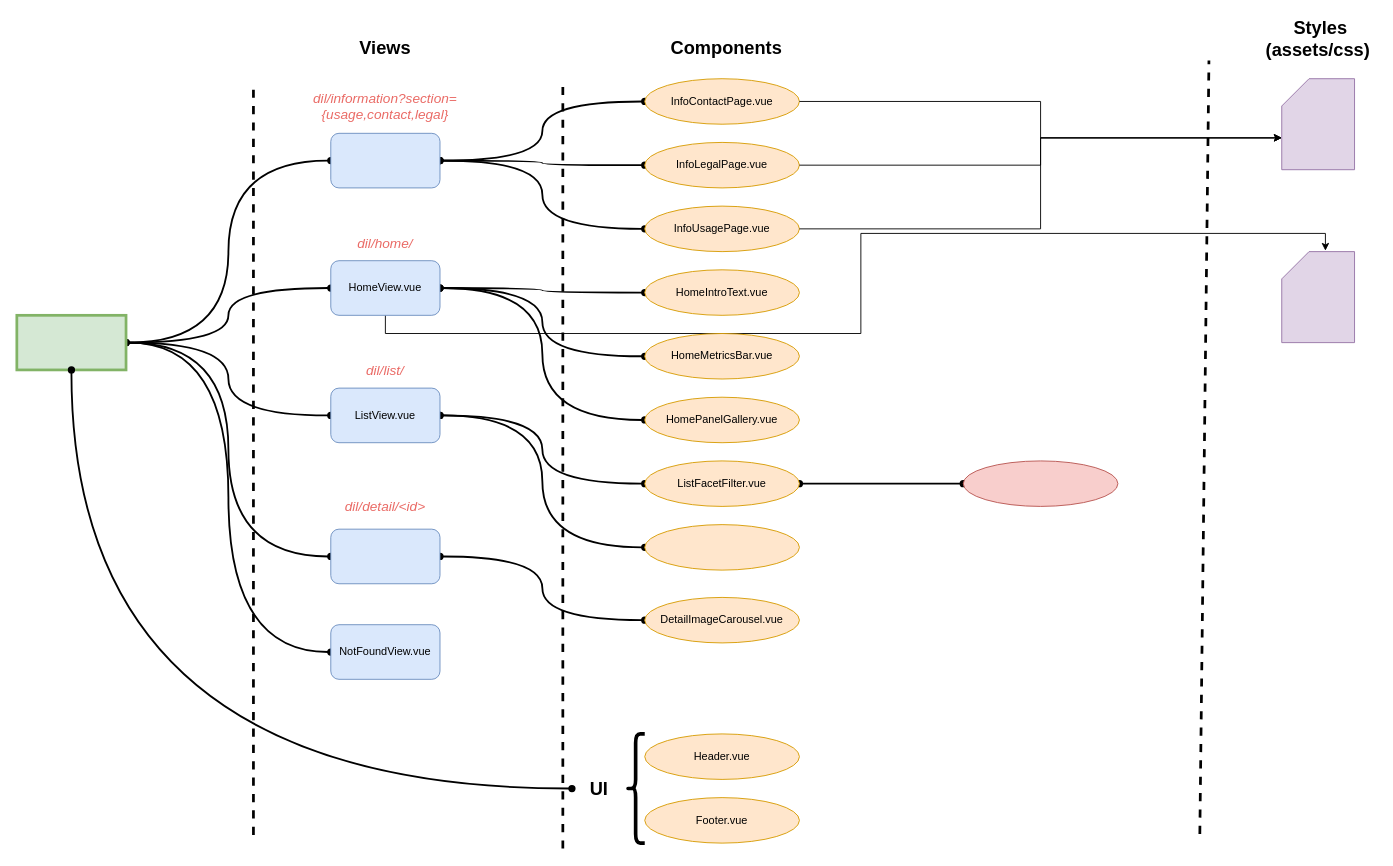
Image size: 1393x866. Some labels were removed from this diagram. The shapes that lost their labels are listed below. From the top down, each one's centre as x and y in pixels, then its label:
At pixel 1318 124: "dil_main_info_pages.css".
At pixel 385 160: "InfoView.vue".
At pixel 1318 297: "dil-utils.css".
At pixel 71 342: "App.vue".
At pixel 1040 483: "VDatePicker .vue".
At pixel 385 556: "DetailView.vue".
At pixel 721 547: "ListLeafletMap .vue".
